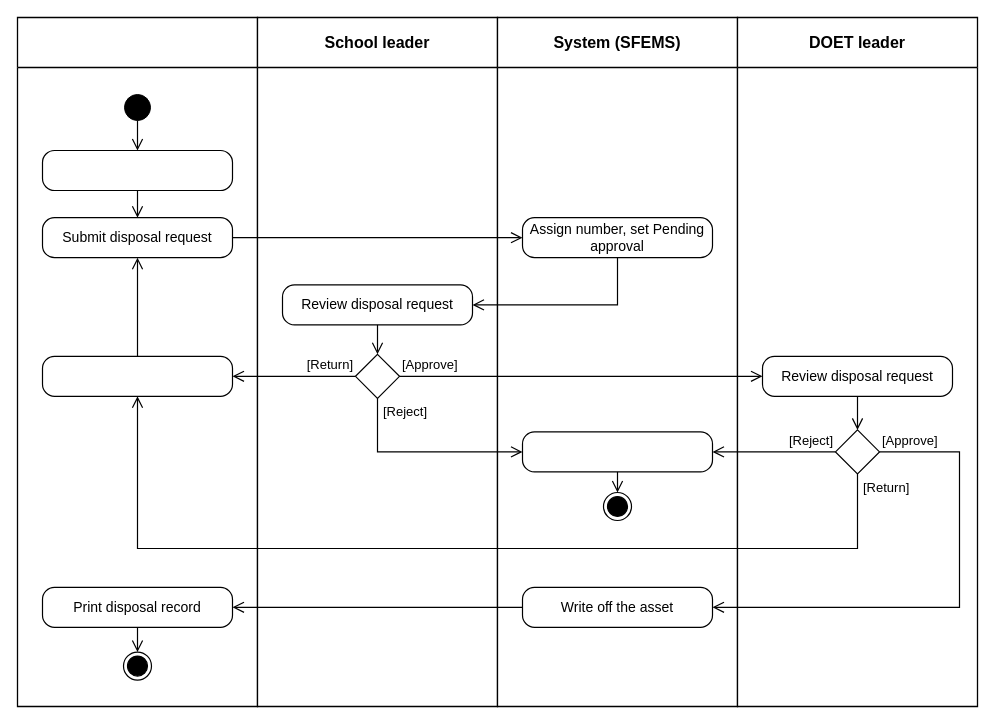
Some shapes in this 996 by 725 pixel diagram are drawn without their labels. The box of each missing label's shape, as (x1, y1, x2, y2) in pixels:
Create disposal request: (41, 149, 233, 191)
Edit disposal request: (41, 355, 233, 396)
School equipment officer: (16, 16, 258, 707)
Stop disposal request: (521, 431, 713, 472)
